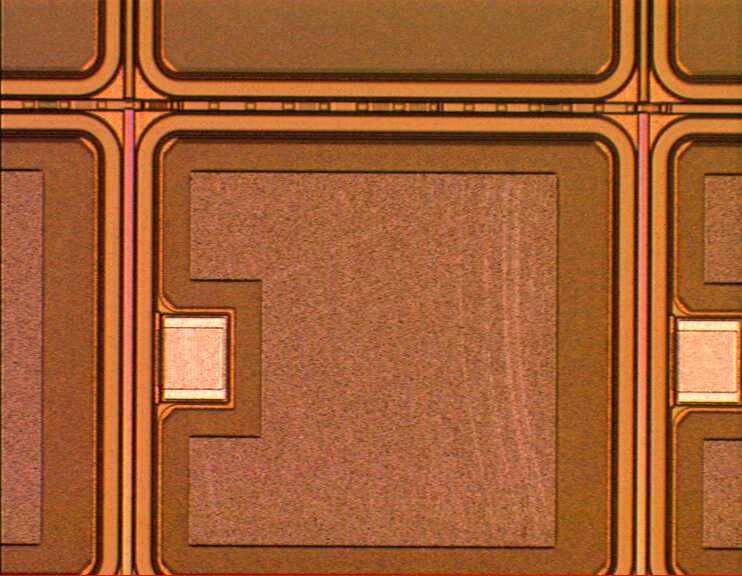SCRATCH: (445, 165, 581, 566)
